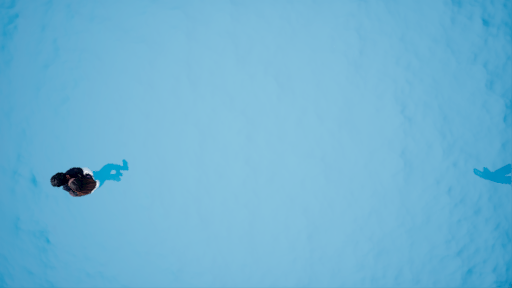person: (47, 159, 135, 198)
